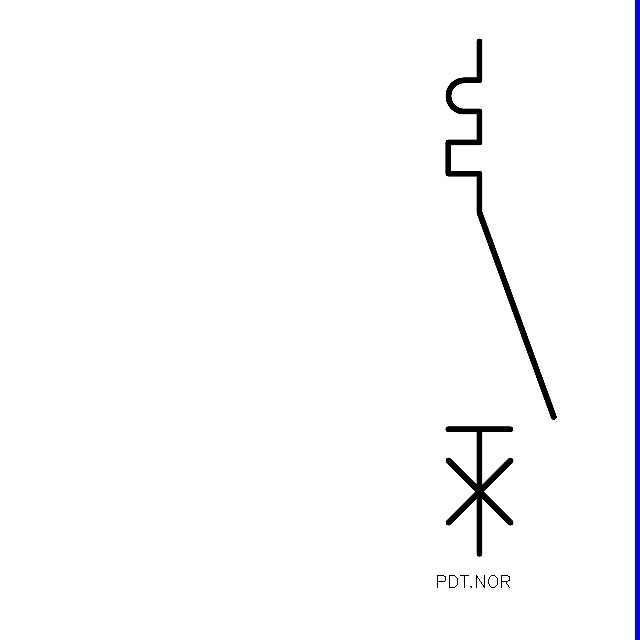interruptor_termomagnetico: (435, 28, 567, 567)
